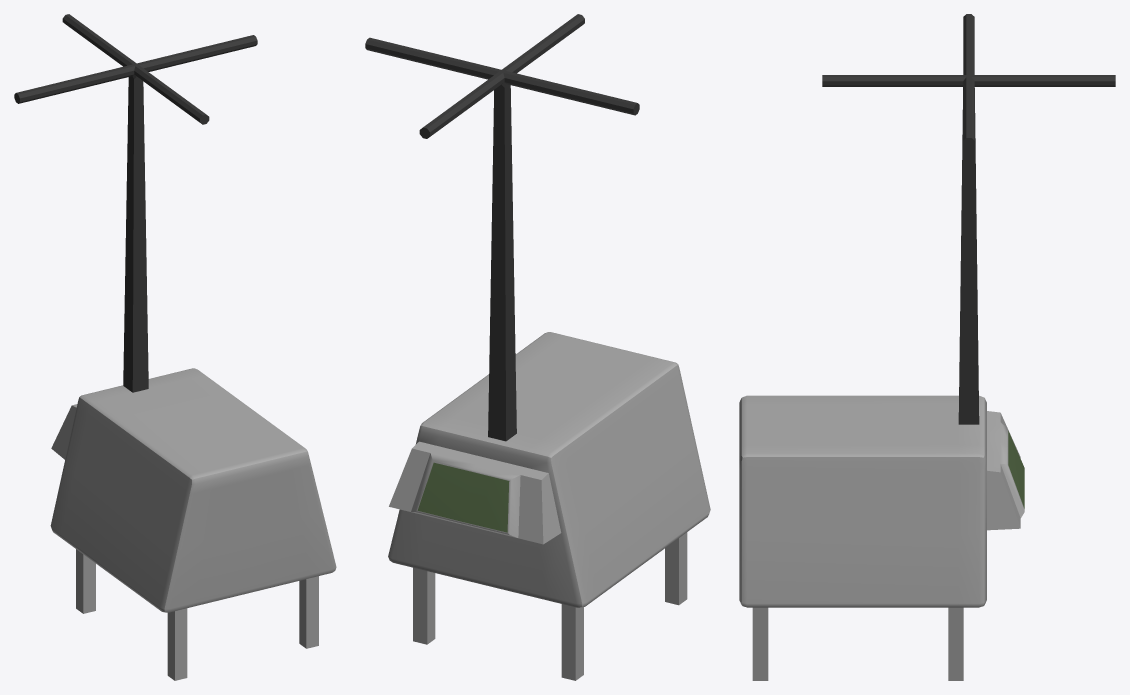
The model's file is radio_prototype.fbx.
3 views of the same model, side by side, from view 1: azimuth 30°, elevation 25°; view 2: azimuth 150°, elevation 25°; view 3: azimuth 270°, elevation 25° (orthographic). The views are drawn at different scales.
Parts seen in each view (by area): view 1: pCube2, pCube1, pCube3, pCube5; view 2: pCube2, pCube5, pCube4, pCube1; view 3: pCube2, pCube3, pCube4.
Part boxes in pixels (box(x1,y1,x2,y2)): pCube2: box(14, 14, 336, 612); pCube1: box(167, 608, 187, 680); pCube3: box(299, 576, 318, 648); pCube5: box(76, 549, 95, 613); pCube2: box(365, 14, 710, 607); pCube5: box(561, 604, 583, 680); pCube4: box(413, 567, 435, 644); pCube1: box(665, 532, 687, 605); pCube2: box(739, 14, 1115, 607); pCube3: box(752, 607, 768, 680); pCube4: box(948, 607, 963, 680).
Size of the model in its own units: 94.69 by 201 by 122.
